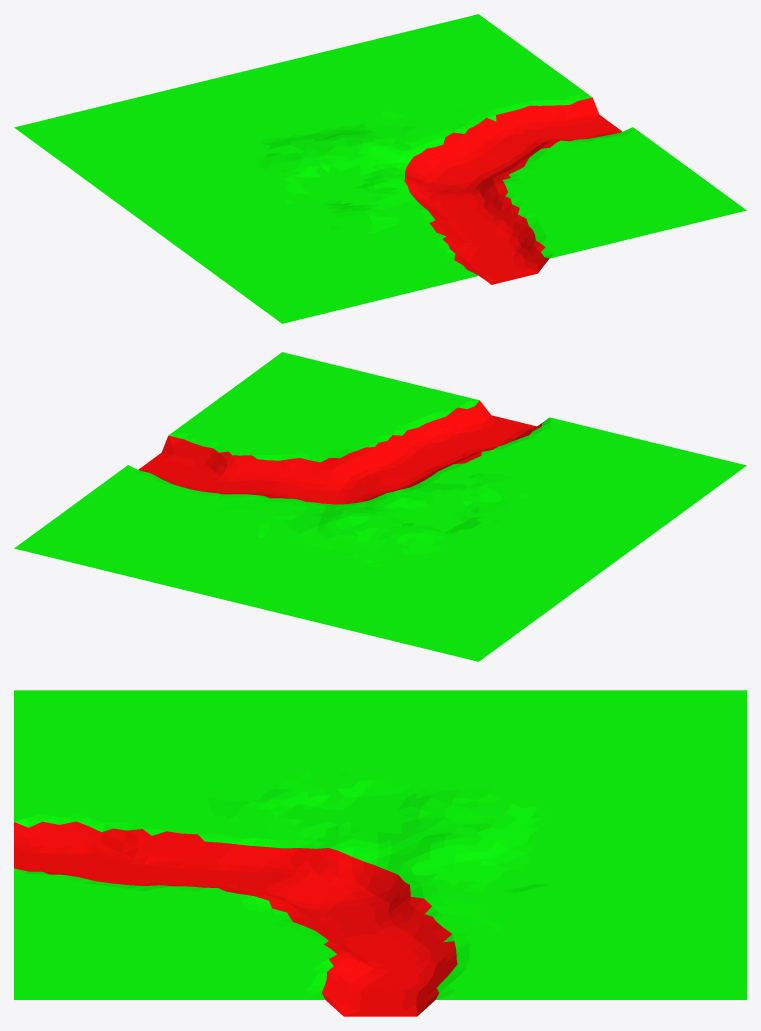
The model's file is RiverAngle05.fbx.
3 renders of one model, top to bottom at view 1: azimuth 30°, elevation 25°; view 2: azimuth 150°, elevation 25°; view 3: azimuth 270°, elevation 25°, orthographic. The views are drawn at different scales.
Parts seen in each view (by area): view 1: RiverAngle05; view 2: RiverAngle05; view 3: RiverAngle05.
Boxes of the visible parts, x1,y1,x2,y2 form: RiverAngle05: [14, 14, 746, 323]; RiverAngle05: [14, 352, 746, 661]; RiverAngle05: [14, 690, 746, 1016].
Size of the model in its own units: 5009 by 246 by 5009.
